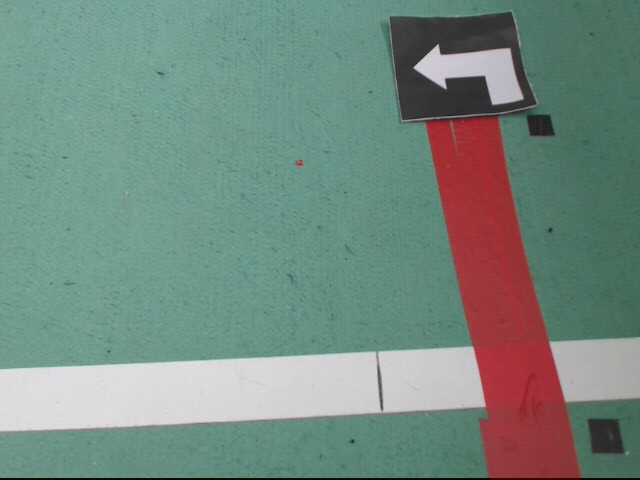left: (388, 15, 540, 124)
